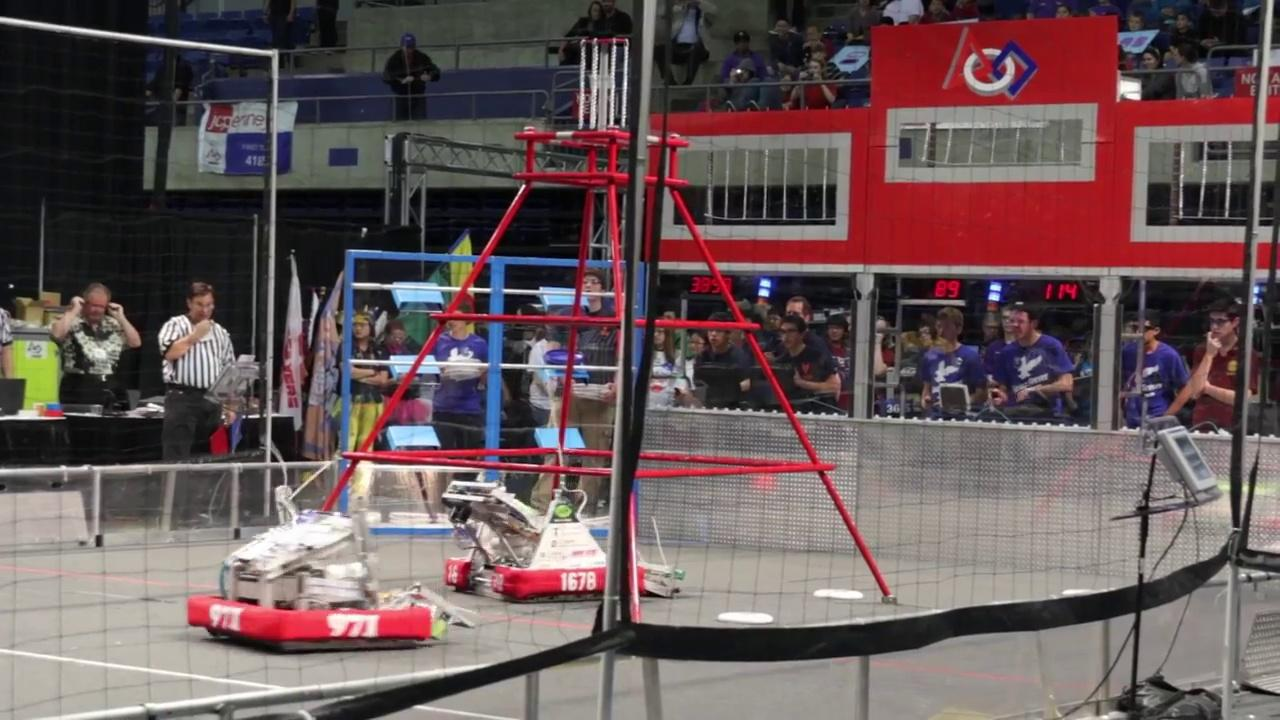robot: (185, 477, 456, 652), (436, 475, 694, 605)
